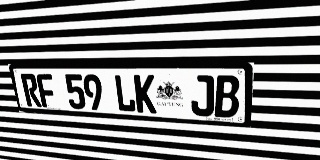5: (64, 74, 87, 109)
9: (82, 74, 105, 110)
B: (214, 75, 240, 118)
F: (36, 74, 58, 108)
J: (190, 75, 214, 117)
K: (134, 75, 157, 113)
L: (113, 74, 136, 112)
R: (20, 74, 42, 107)
